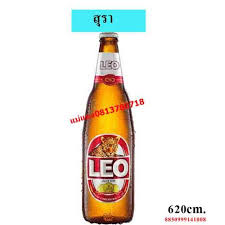glass_bottle: (82, 31, 136, 225)
